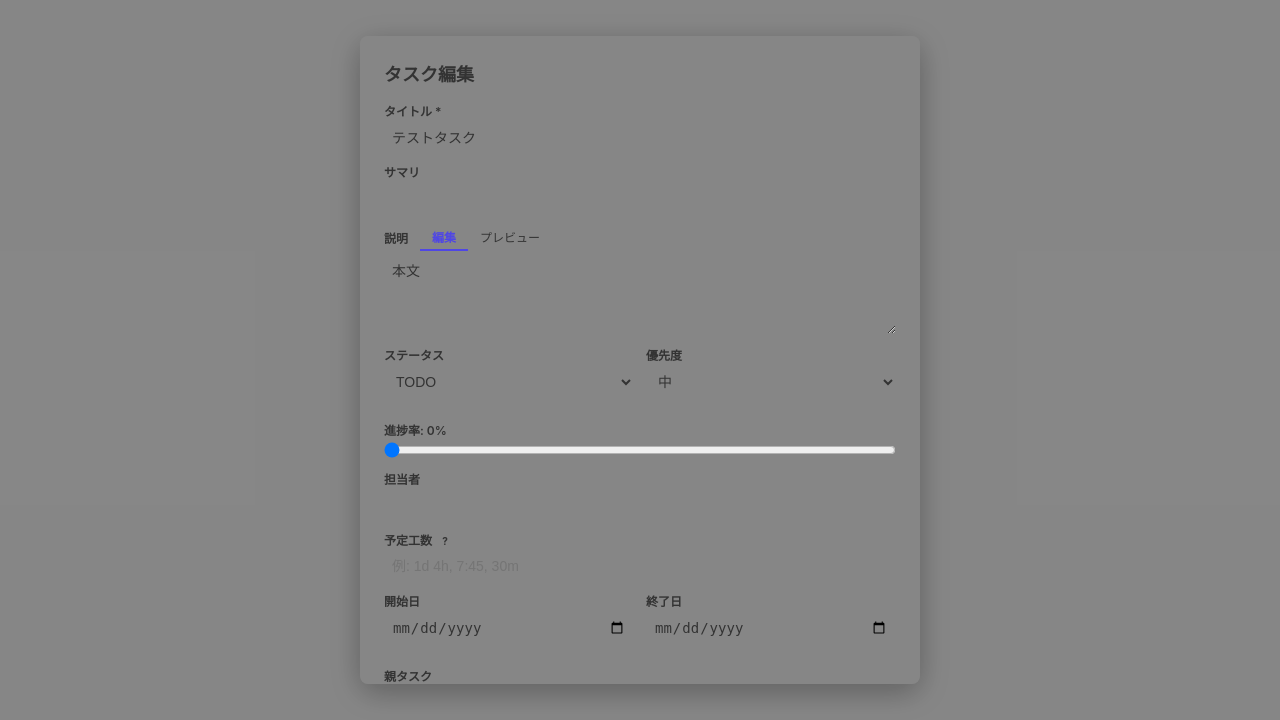
it: TaskModal — 説明フィールドのタブ切り替え › 「プレビュー」→「編集」に戻ると textarea が再表示される
Click the tab "プレビュー".
click(510, 238)  # box [468, 224, 552, 251]
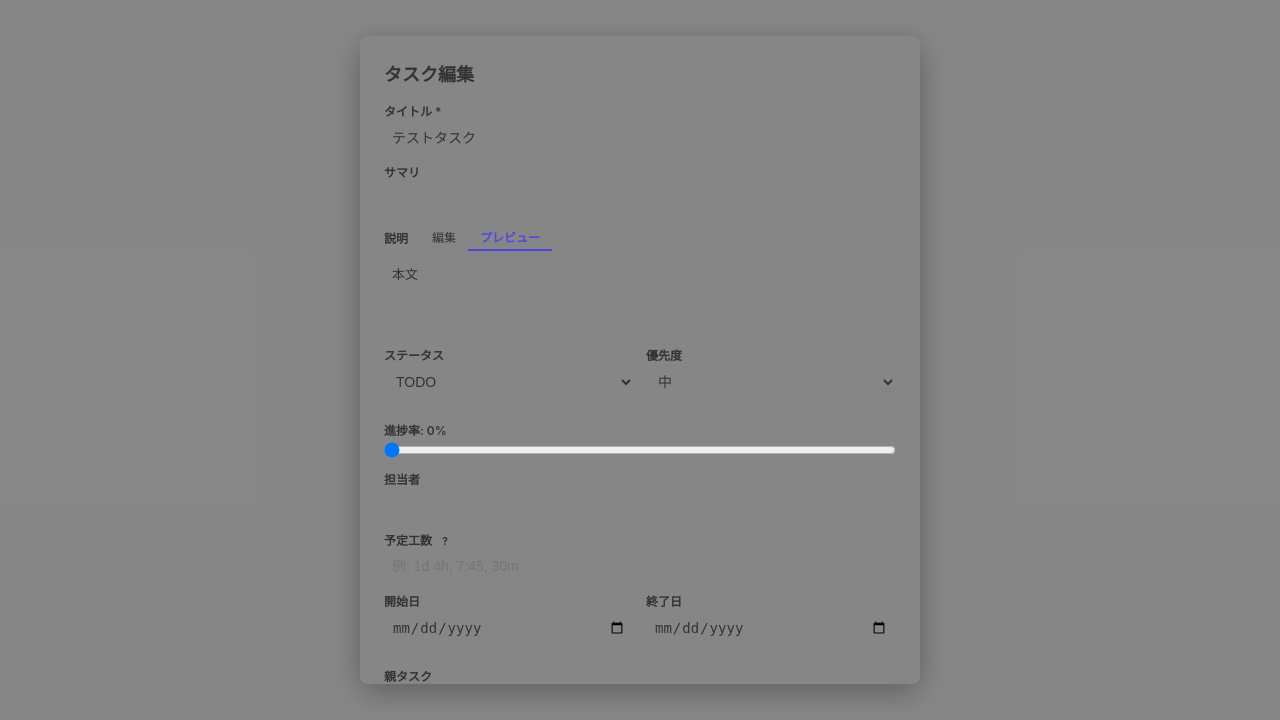
Click the tab "編集".
click(444, 238)  # box [420, 224, 468, 251]
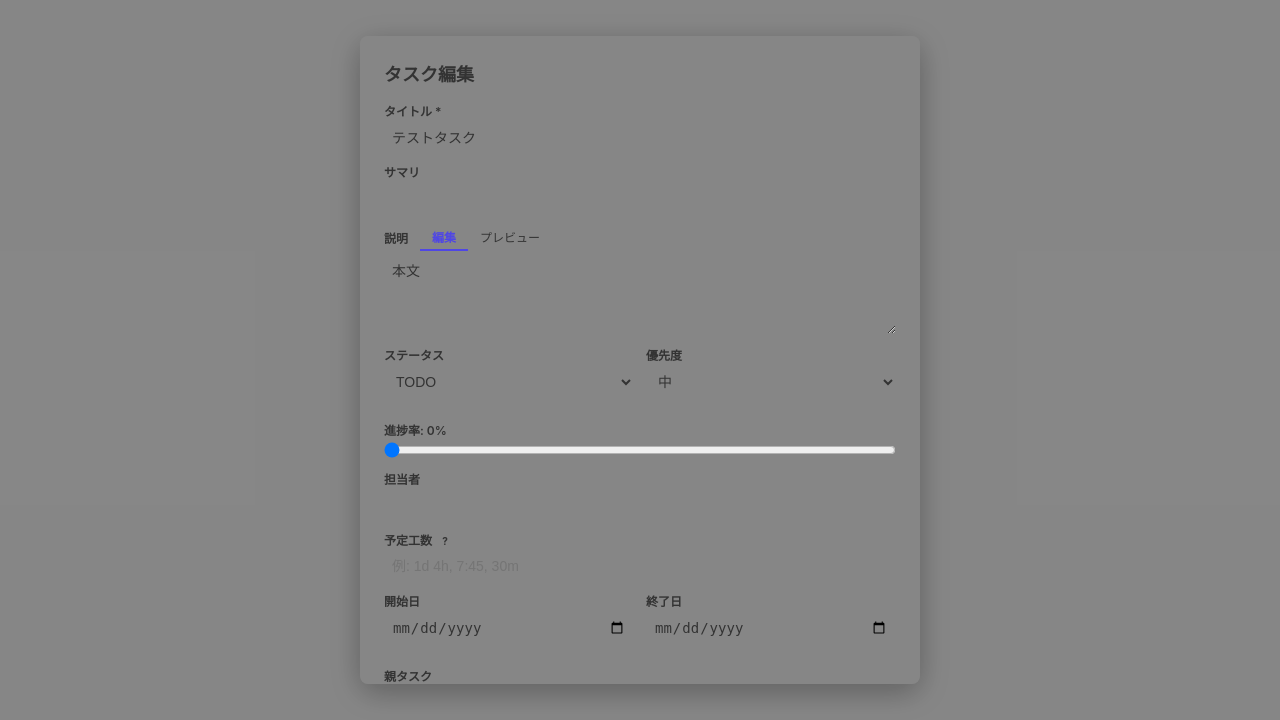
Expected: the text box named "説明" is shown, [384, 254, 896, 334]
